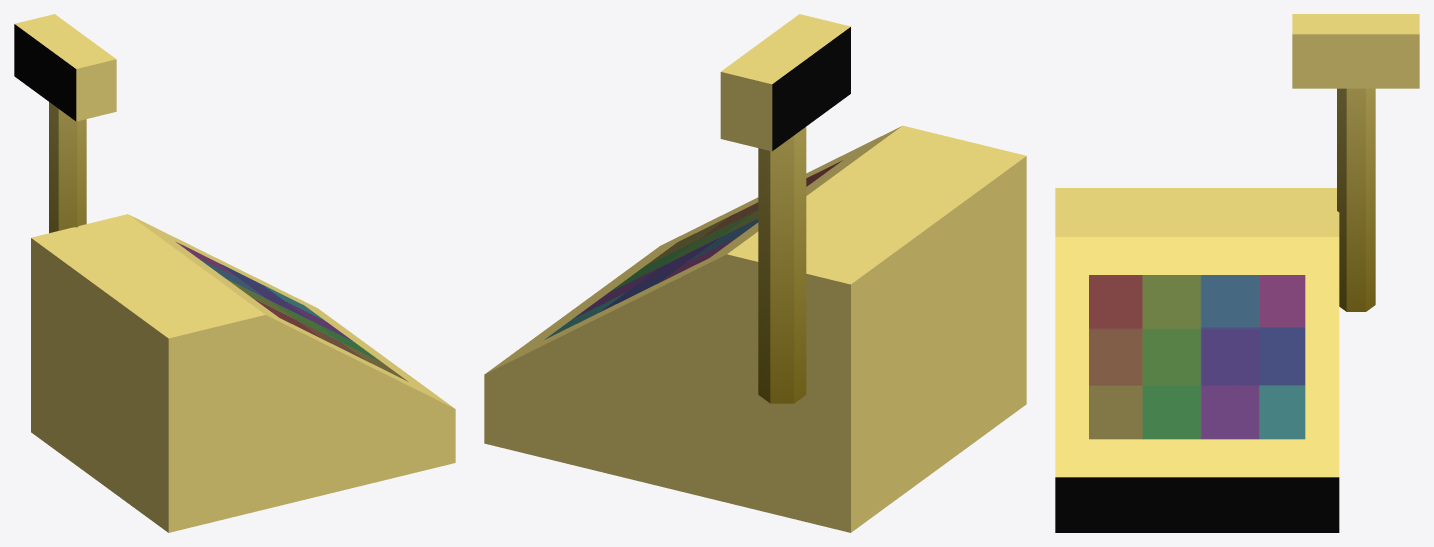
The model's file is Cash register.obj.
3 renders of one model, left to right at view 1: azimuth 30°, elevation 25°; view 2: azimuth 150°, elevation 25°; view 3: azimuth 270°, elevation 25°, orthographic. The views are drawn at different scales.
Visible parts, largest first — view 1: Cash_register_Cube.044; view 2: Cash_register_Cube.044; view 3: Cash_register_Cube.044.
Boxes of the visible parts, box(x1,y1,x2,y2) form: Cash_register_Cube.044: box(14, 14, 455, 532); Cash_register_Cube.044: box(484, 14, 1026, 532); Cash_register_Cube.044: box(1055, 14, 1419, 532).
Size of the model in its own units: 1.52 by 1.9 by 1.63.
